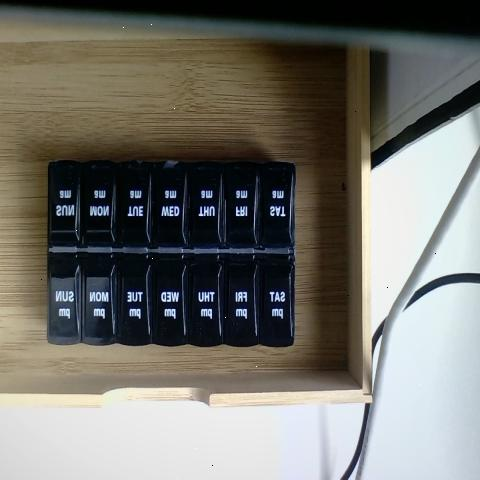FRI-am: (221, 160, 254, 248)
FRI-pm: (220, 256, 255, 347)
MON-am: (78, 163, 112, 249)
MON-pm: (80, 255, 112, 345)
SAT-am: (253, 162, 292, 249)
SAT-pm: (256, 257, 291, 348)
SUN-am: (45, 163, 77, 249)
SUN-pm: (44, 251, 77, 341)
THU-am: (183, 164, 219, 256)
THU-pm: (185, 253, 219, 344)
TUE-am: (114, 160, 148, 248)
TUE-pm: (114, 254, 148, 346)
WED-am: (150, 158, 183, 253)
WED-pm: (150, 256, 182, 345)
